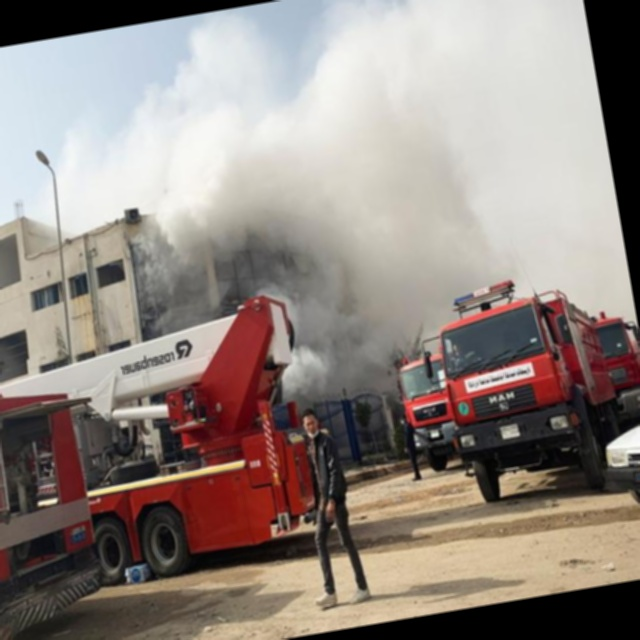Fire-truck: (0, 283, 321, 640), (419, 269, 620, 519), (382, 339, 486, 479)
car: (598, 410, 640, 514)
person: (283, 403, 372, 611), (399, 413, 423, 481), (447, 341, 470, 371)
